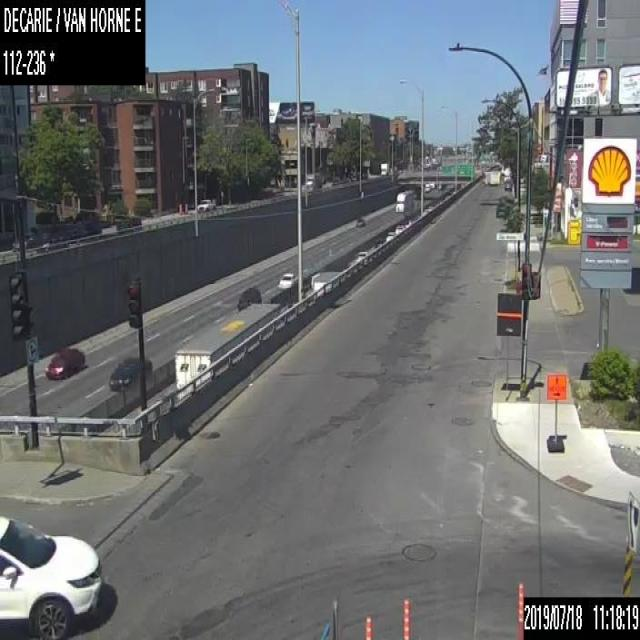construction: (544, 369, 566, 453), (516, 582, 524, 638), (401, 597, 409, 639), (363, 616, 372, 639), (178, 202, 182, 214), (183, 202, 187, 213)
vehicle: (0, 514, 102, 638), (174, 304, 284, 392), (107, 356, 153, 391), (45, 346, 85, 378), (313, 271, 343, 292), (238, 287, 260, 310), (277, 270, 298, 290), (12, 232, 36, 249), (394, 190, 412, 211), (304, 172, 320, 189), (355, 249, 368, 267), (197, 198, 216, 210), (385, 230, 395, 241), (394, 224, 405, 234), (503, 178, 512, 189), (380, 162, 388, 174), (356, 217, 364, 226), (424, 182, 431, 191)
